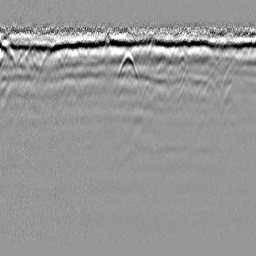cavity: (116, 49, 139, 80)
